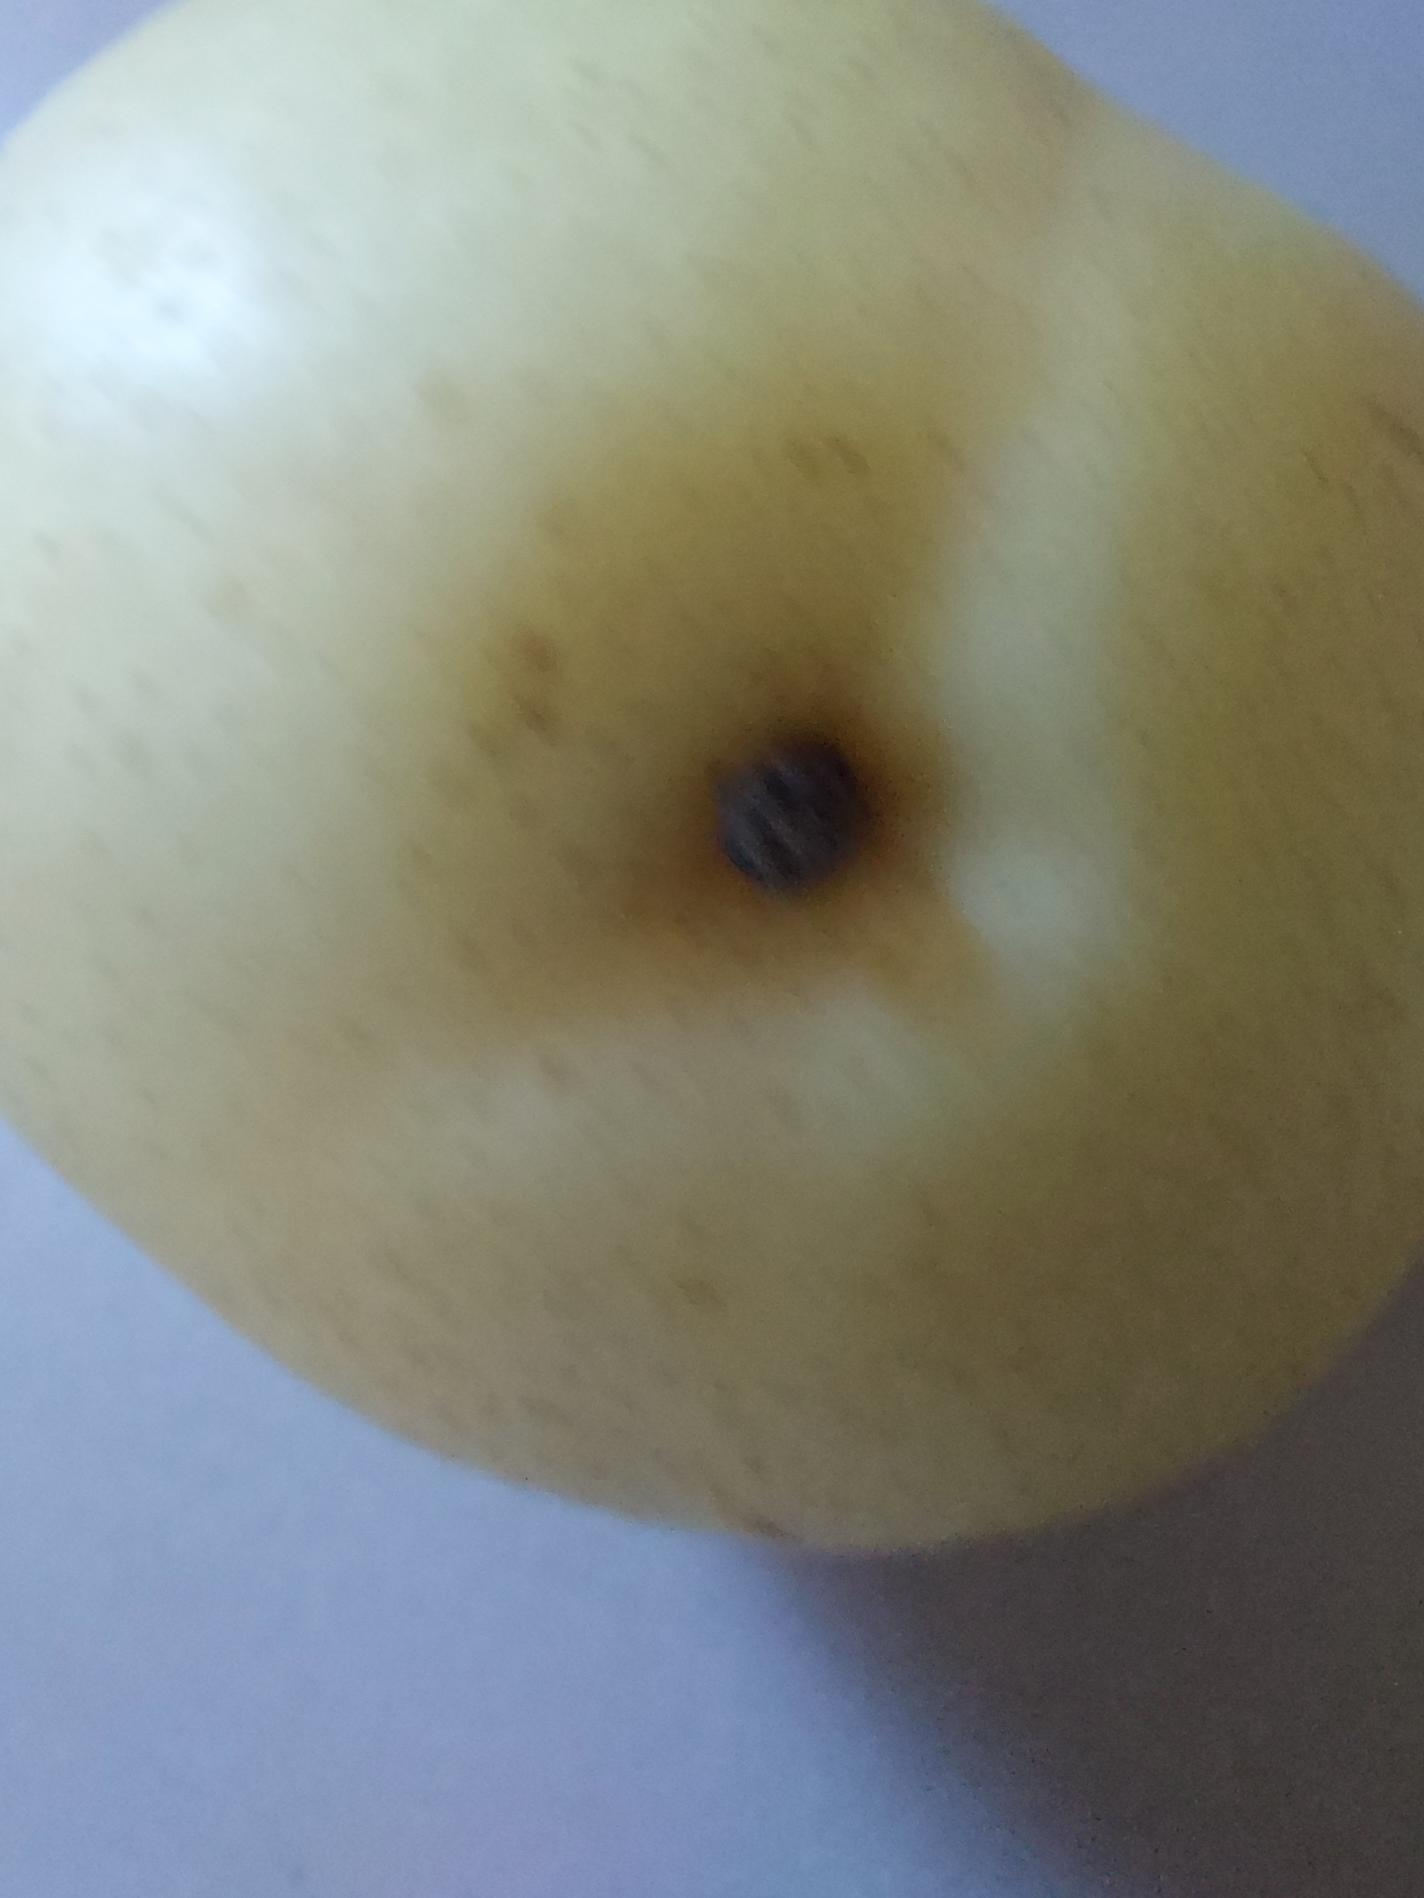Good Pear: (0, 0, 1424, 1585)
